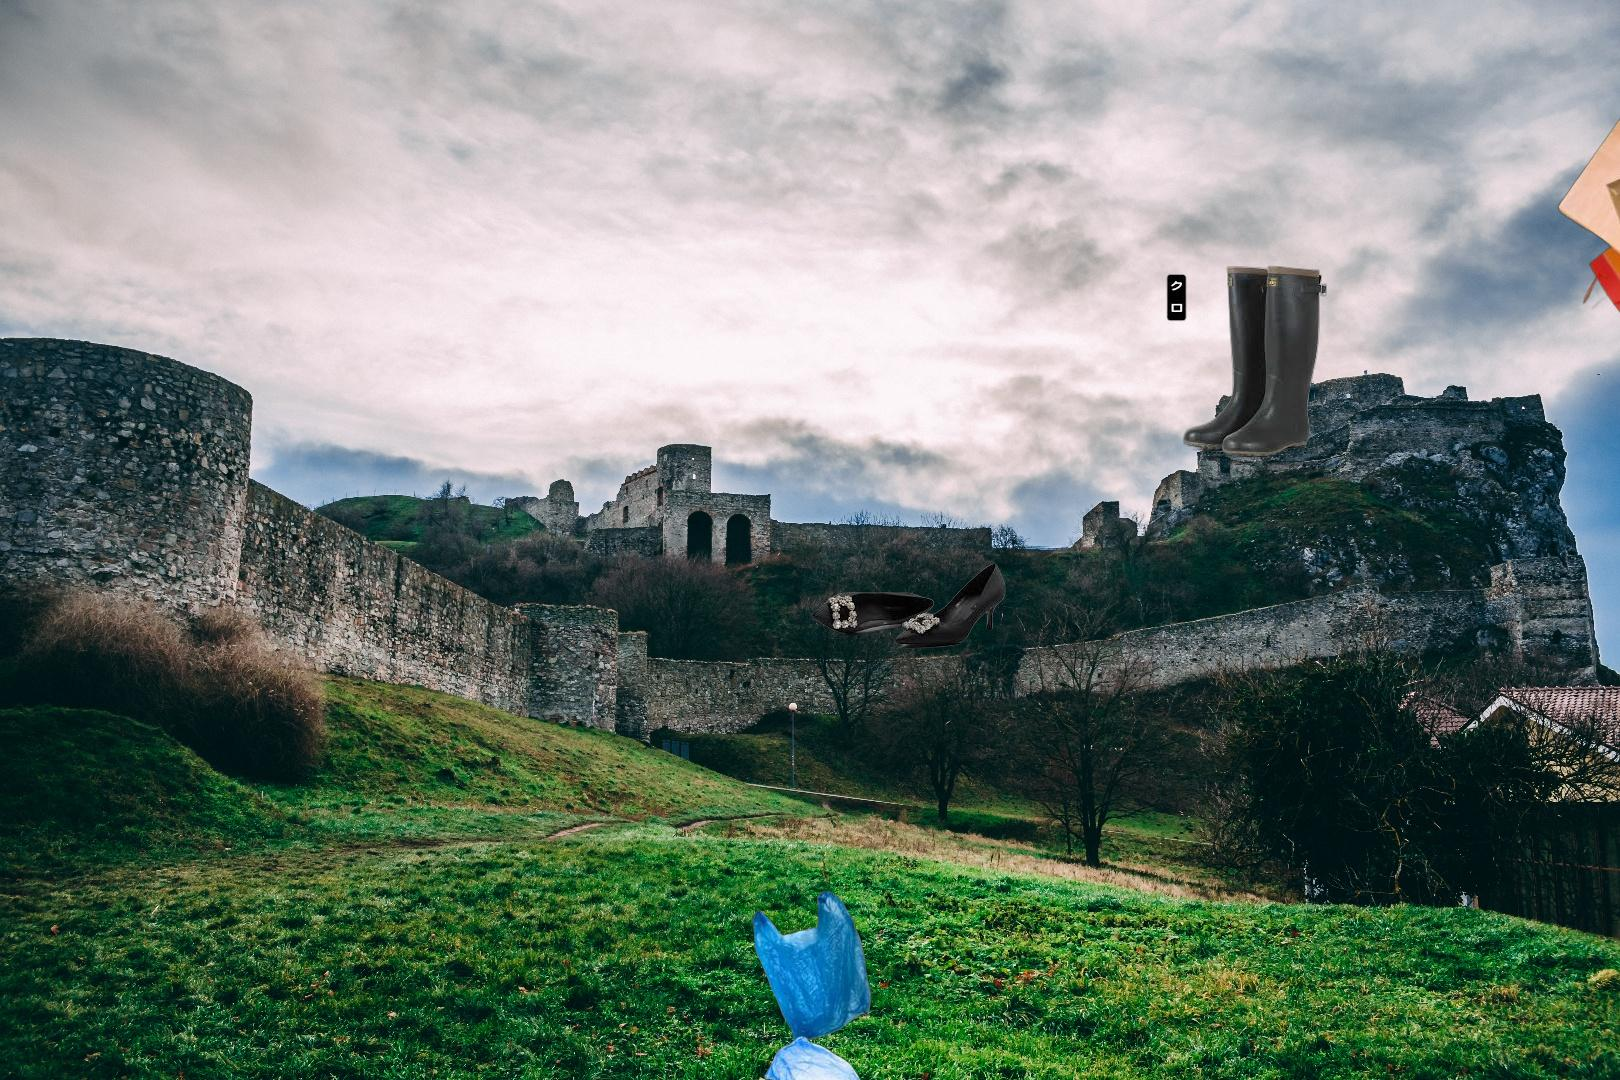paper-bag: (1555, 92, 1620, 339)
plastic-bag: (749, 888, 882, 1080)
shoes: (1164, 263, 1330, 460), (811, 560, 1009, 652)
